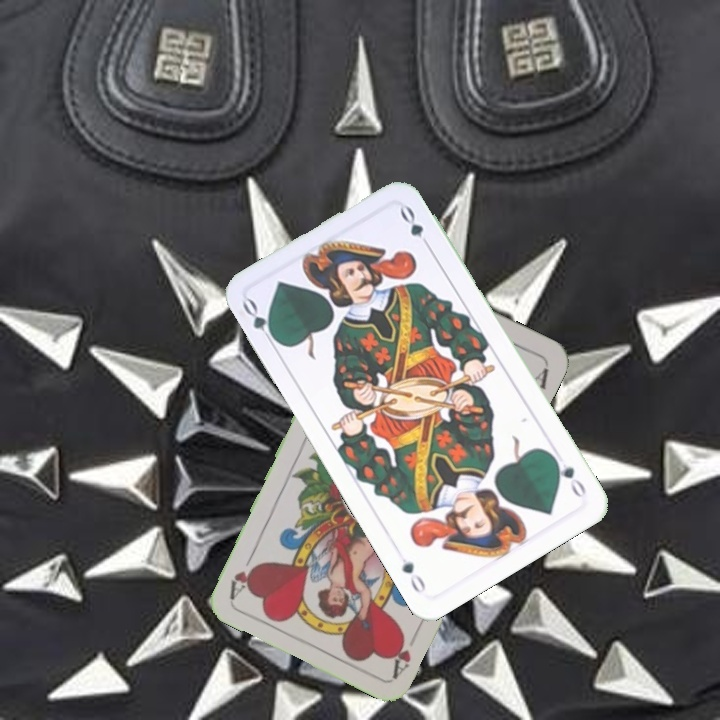GO: (238, 295, 282, 349), (547, 451, 589, 501)
HA: (385, 624, 423, 679)
